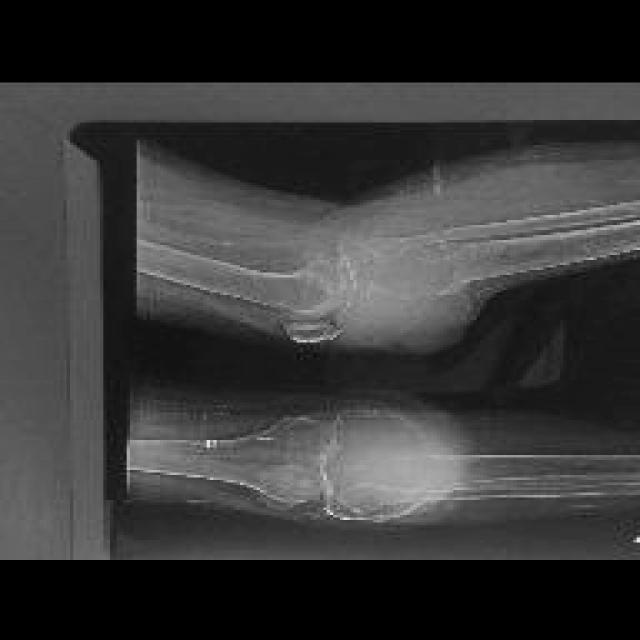bone-cancer: (317, 198, 488, 345), (316, 405, 460, 522)
